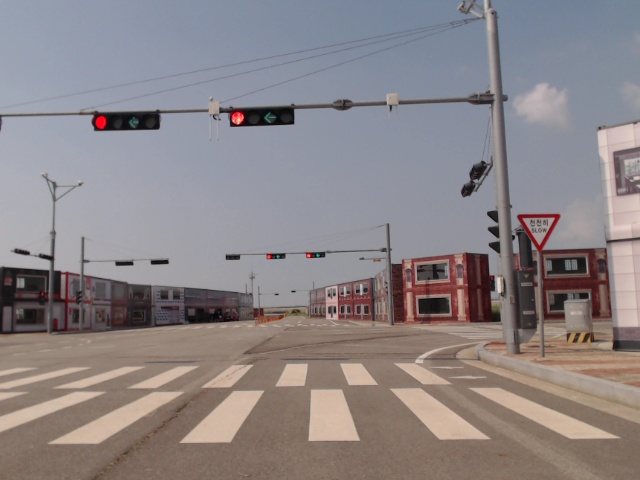left_green_4: (94, 112, 158, 130), (230, 110, 294, 127), (306, 252, 326, 258), (267, 253, 285, 259)
